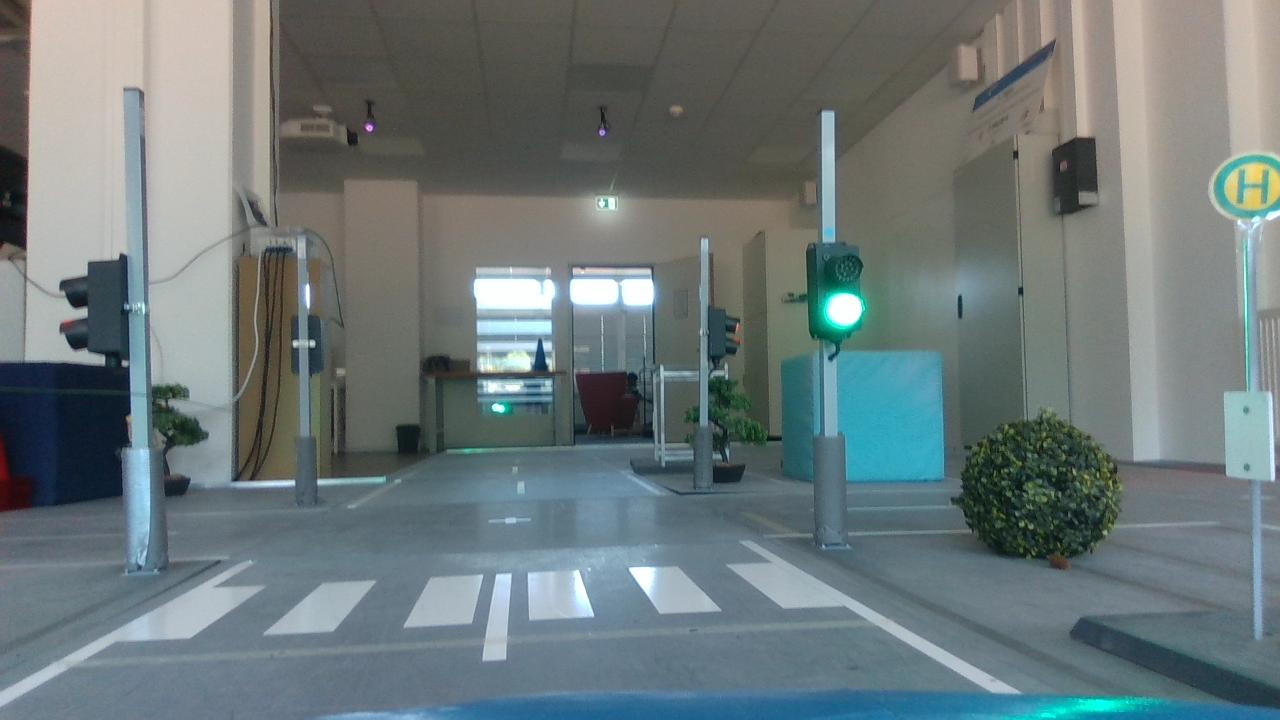traffic_light_green: (794, 232, 878, 343)
